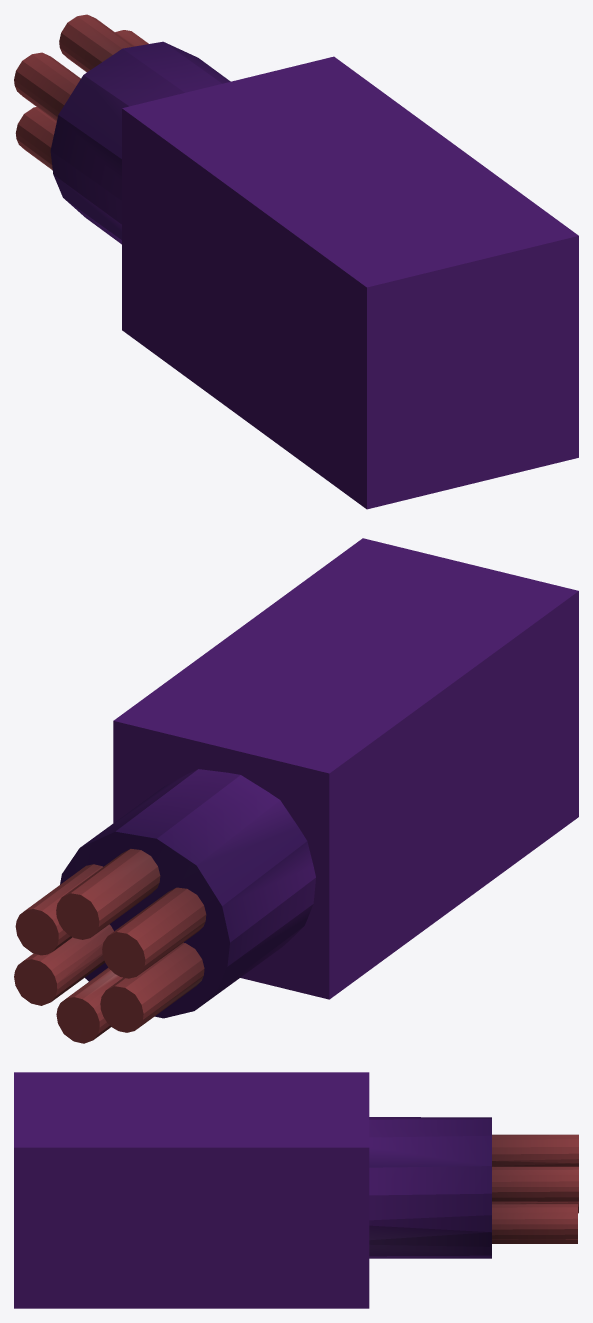
Rendered from gatling2.fbx.
3 views of the same model, one above another, from view 1: azimuth 30°, elevation 25°; view 2: azimuth 150°, elevation 25°; view 3: azimuth 270°, elevation 25° (orthographic). The views are drawn at different scales.
Parts seen in each view (by area): view 1: Cube; view 2: Cube; view 3: Cube.
Part boxes in pixels (left/top/right/bottom): Cube: left=14, top=14, right=578, bottom=509; Cube: left=14, top=538, right=578, bottom=1043; Cube: left=14, top=1072, right=578, bottom=1308.
Bounding box in the file's own units: 200 × 200 × 636.
